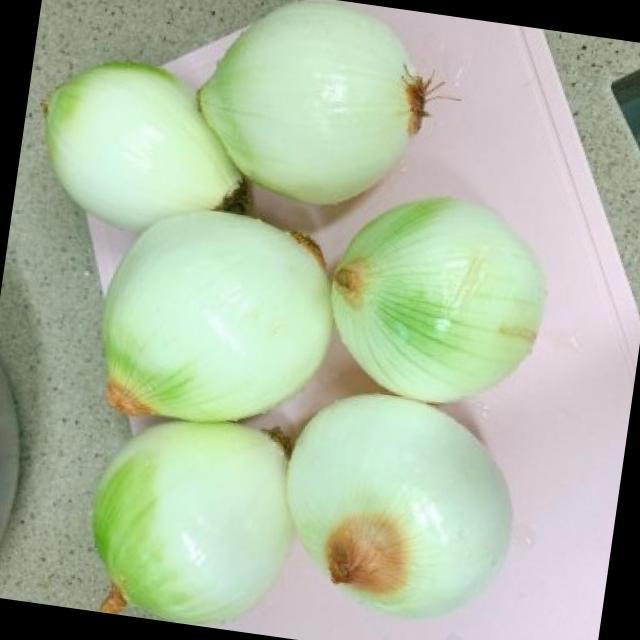Onion: (289, 402, 518, 622), (201, 0, 423, 216), (98, 212, 329, 419), (331, 196, 546, 402), (88, 421, 285, 626), (46, 66, 238, 226)
